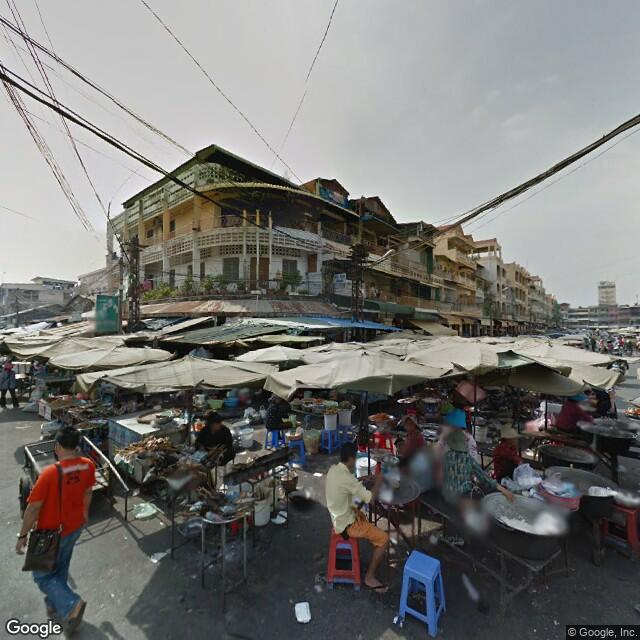litter: (128, 497, 163, 526), (285, 596, 316, 627), (145, 544, 175, 570), (389, 611, 404, 631), (528, 583, 542, 598), (551, 617, 562, 630)
